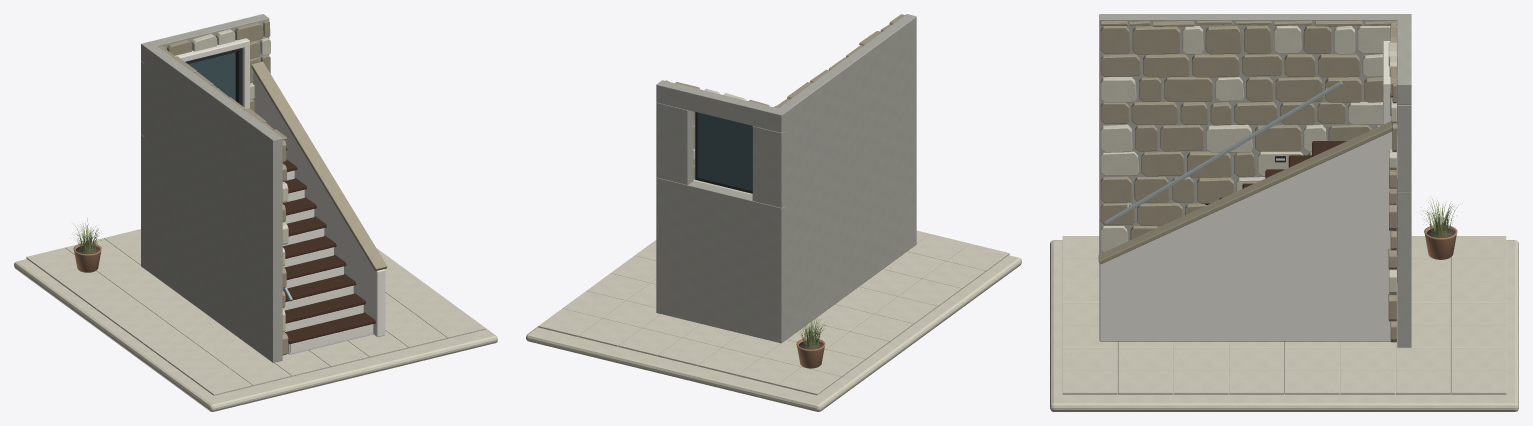
File: scala-HzKWW1Et.glb
3 renders of one model, left to right at view 1: azimuth 30°, elevation 25°; view 2: azimuth 150°, elevation 25°; view 3: azimuth 270°, elevation 25°, orthographic. The views are drawn at different scales.
Parts seen in each view (by area): view 1: phase_envelope__concrete, phase_finish__limestone, phase_site__limestone, phase_finish__darkwood, phase_finish__stone, phase_envelope__plaster, phase_finish__plaster, phase_finish__glass, phase_finish__graphite, phase_details__HF_terracotta.001, phase_details__HF_grass.001; view 2: phase_envelope__concrete, phase_finish__limestone, phase_site__limestone, phase_finish__glass, phase_finish__stone, phase_details__HF_terracotta.001, phase_details__HF_grass.001; view 3: phase_finish__limestone, phase_envelope__plaster, phase_finish__stone, phase_envelope__concrete, phase_site__limestone, phase_details__metal, phase_details__HF_terracotta.001, phase_finish__darkwood, phase_details__HF_grass.001, phase_finish__plaster.
Boxes of the visible parts, x1,y1,x2,y2 form: phase_envelope__concrete: (141,14,282,362); phase_finish__limestone: (26,29,485,395); phase_site__limestone: (14,259,497,411); phase_finish__darkwood: (282,147,375,344); phase_finish__stone: (158,20,387,355); phase_envelope__plaster: (253,71,385,337); phase_finish__plaster: (174,38,373,353); phase_finish__glass: (188,52,235,100); phase_finish__graphite: (185,48,242,105); phase_details__HF_terracotta.001: (73,243,101,272); phase_details__HF_grass.001: (72,218,102,253); phase_envelope__concrete: (656,14,916,343); phase_finish__limestone: (538,89,1009,395); phase_site__limestone: (526,255,1021,411); phase_finish__glass: (697,112,752,191); phase_finish__stone: (666,14,904,176); phase_details__HF_terracotta.001: (796,338,825,368); phase_details__HF_grass.001: (794,315,826,349); phase_finish__limestone: (1062,25,1506,394); phase_envelope__plaster: (1099,131,1393,341); phase_finish__stone: (1098,20,1397,342); phase_envelope__concrete: (1099,14,1411,347); phase_site__limestone: (1050,240,1518,411); phase_details__metal: (1104,81,1342,224); phase_details__HF_terracotta.001: (1424,225,1457,259); phase_finish__darkwood: (1219,141,1346,199); phase_details__HF_grass.001: (1420,198,1462,237); phase_finish__plaster: (1383,41,1391,124).
Bounding box in the file's own units: 4.65 × 3.67 × 5.55.
12 materials, 4 textured.
